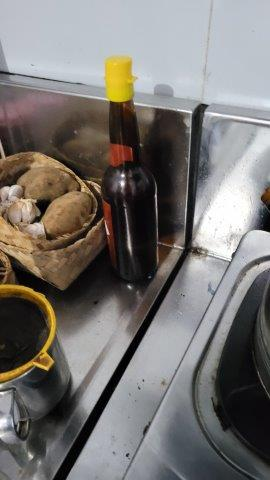botolkaca: (101, 56, 161, 284)
